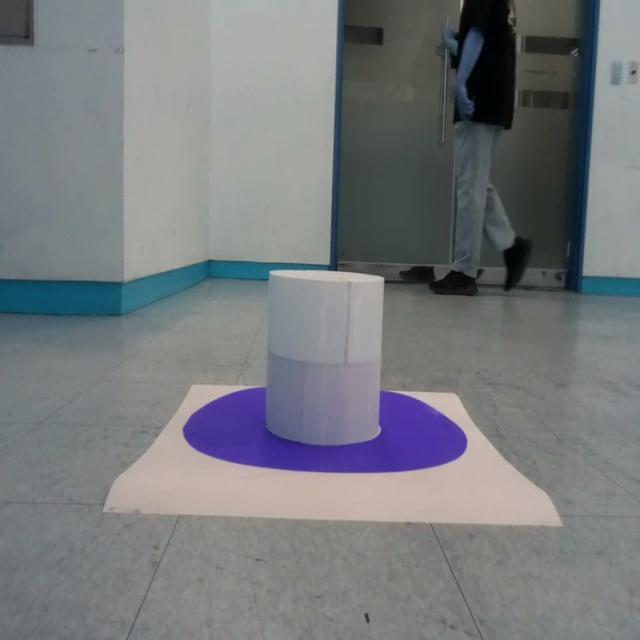cylinder: (264, 270, 385, 447)
